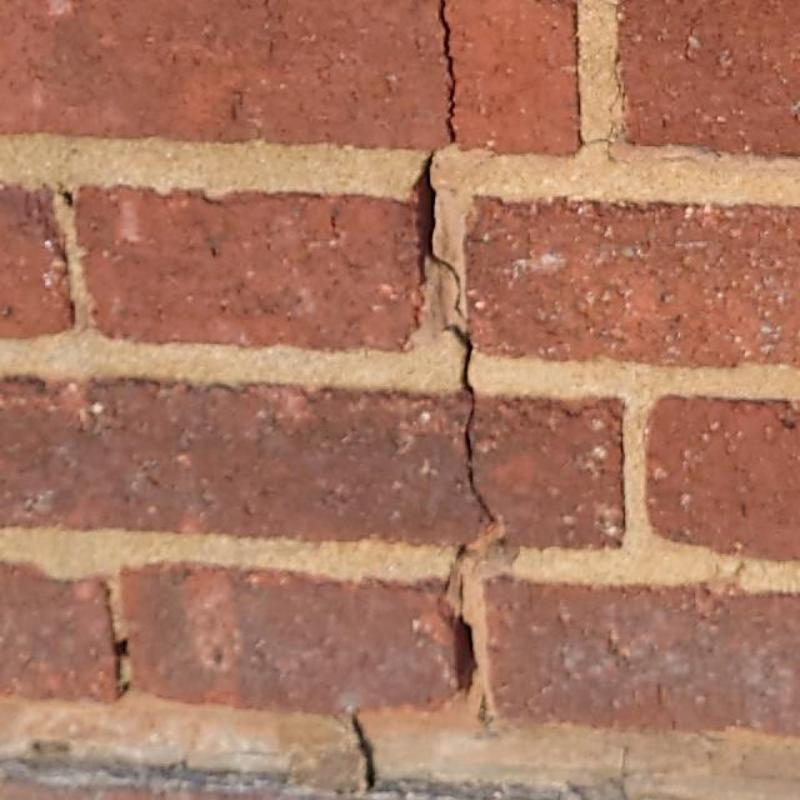crack: (448, 325, 497, 525), (412, 147, 461, 320), (584, 51, 630, 165), (439, 0, 458, 144), (459, 576, 478, 670), (352, 712, 375, 789), (112, 636, 132, 681)
